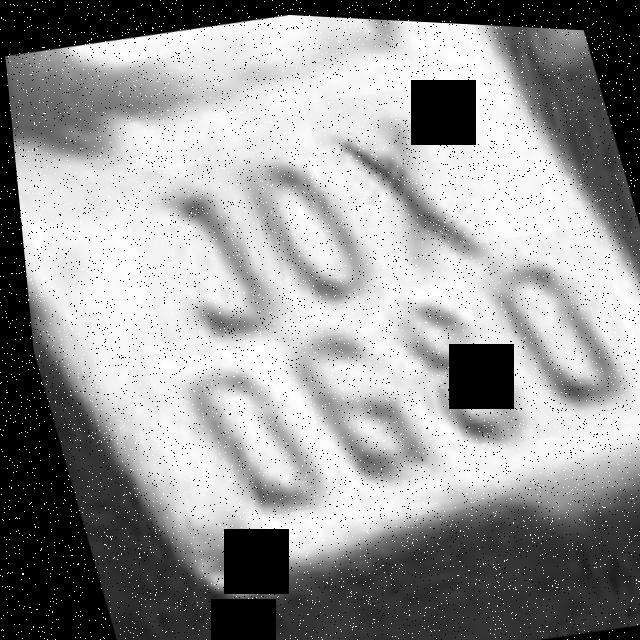0: (131, 312, 356, 550), (447, 214, 640, 446)
G: (244, 274, 453, 519)
J: (111, 149, 300, 363)
X: (300, 71, 505, 297)
